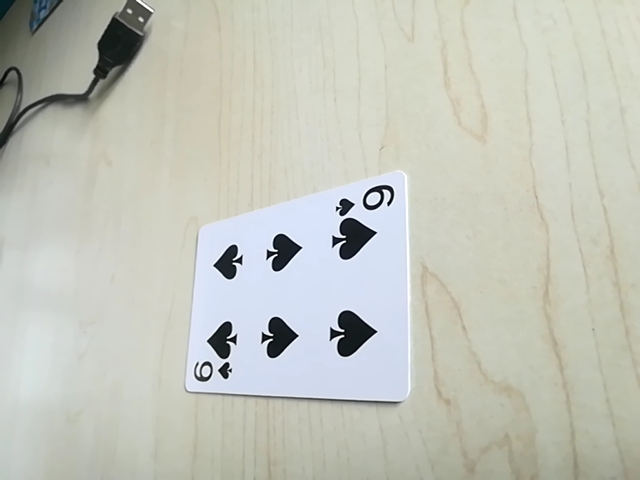ht 6: (334, 180, 397, 217), (189, 352, 238, 390)
